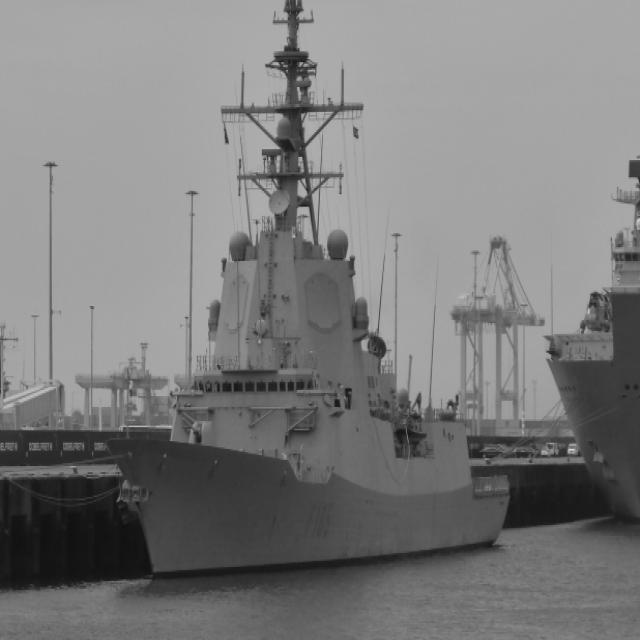Fragata: (102, 1, 524, 596)
